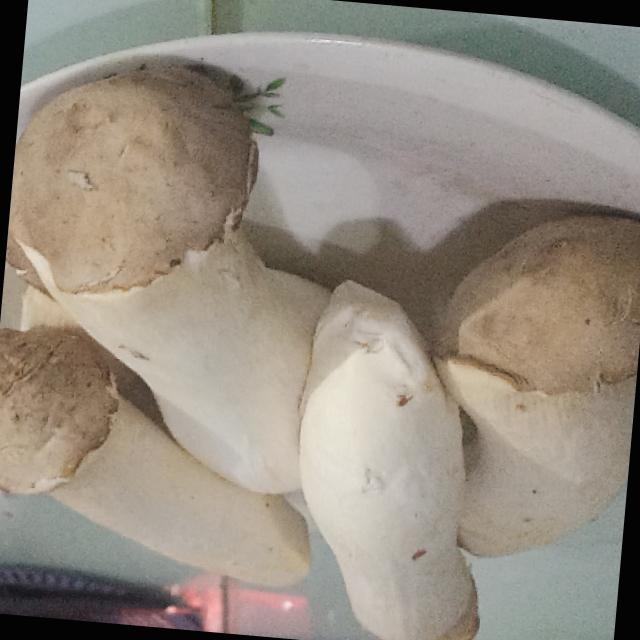Pleurotus eryngii: (0, 46, 373, 505), (0, 329, 320, 635), (432, 180, 640, 598), (268, 278, 507, 640)
